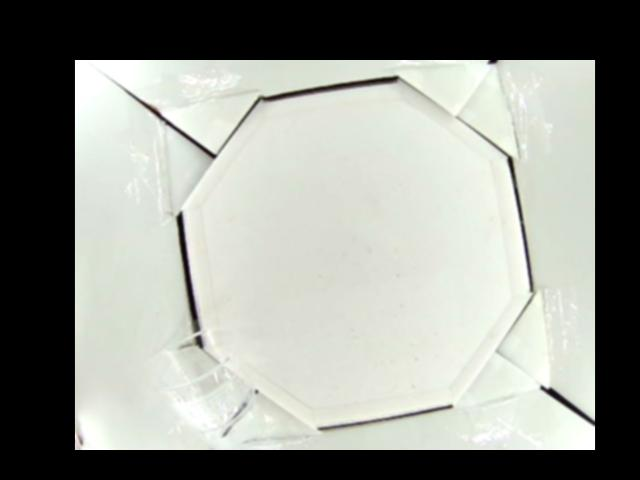Cup: (145, 324, 252, 449)
